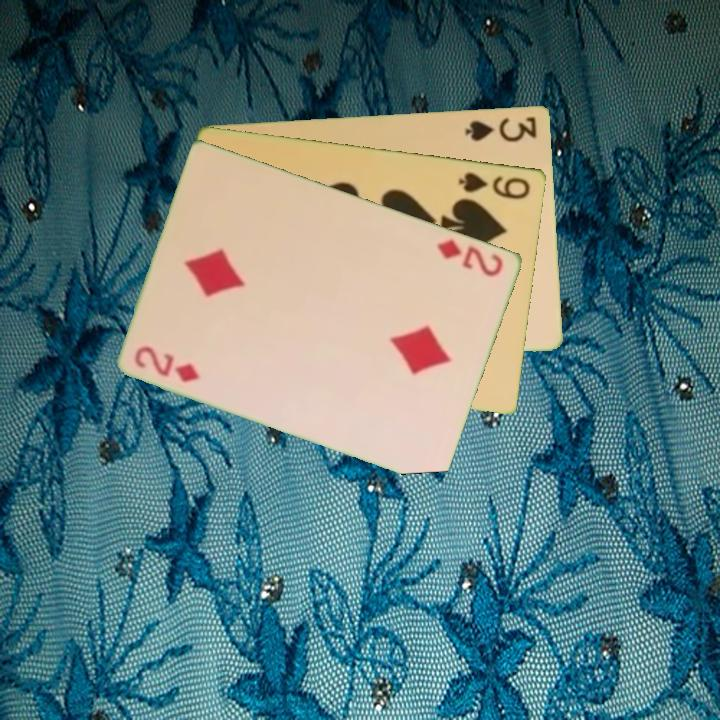2d: (434, 235, 507, 280), (131, 342, 203, 385)
3s: (462, 113, 540, 144)
9s: (456, 168, 534, 202)
